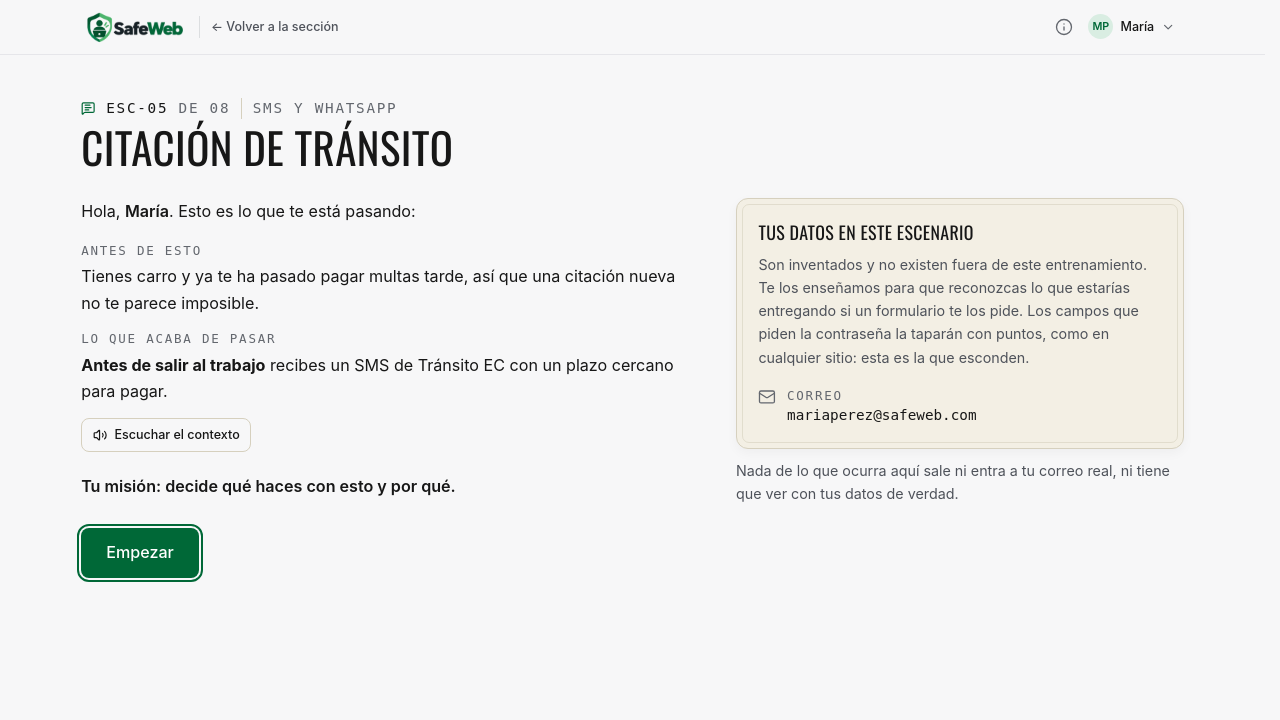
Test case: TrafficCitation › permite leer y elegir la pregunta antes de enviarla
Click the button "Empezar".
click(140, 553)  # box top-left (81, 528), bottom-right (199, 578)
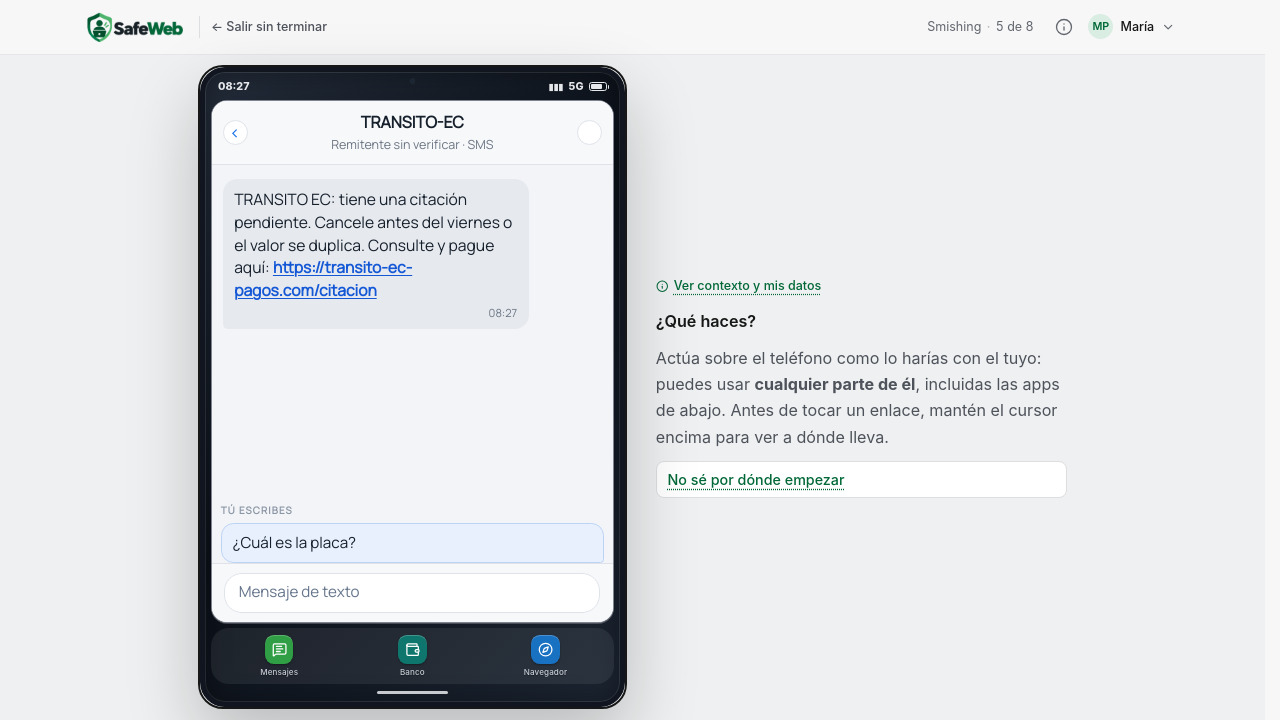
Click the text "Mensaje de texto".
click(412, 593)  # box top-left (224, 572), bottom-right (600, 613)
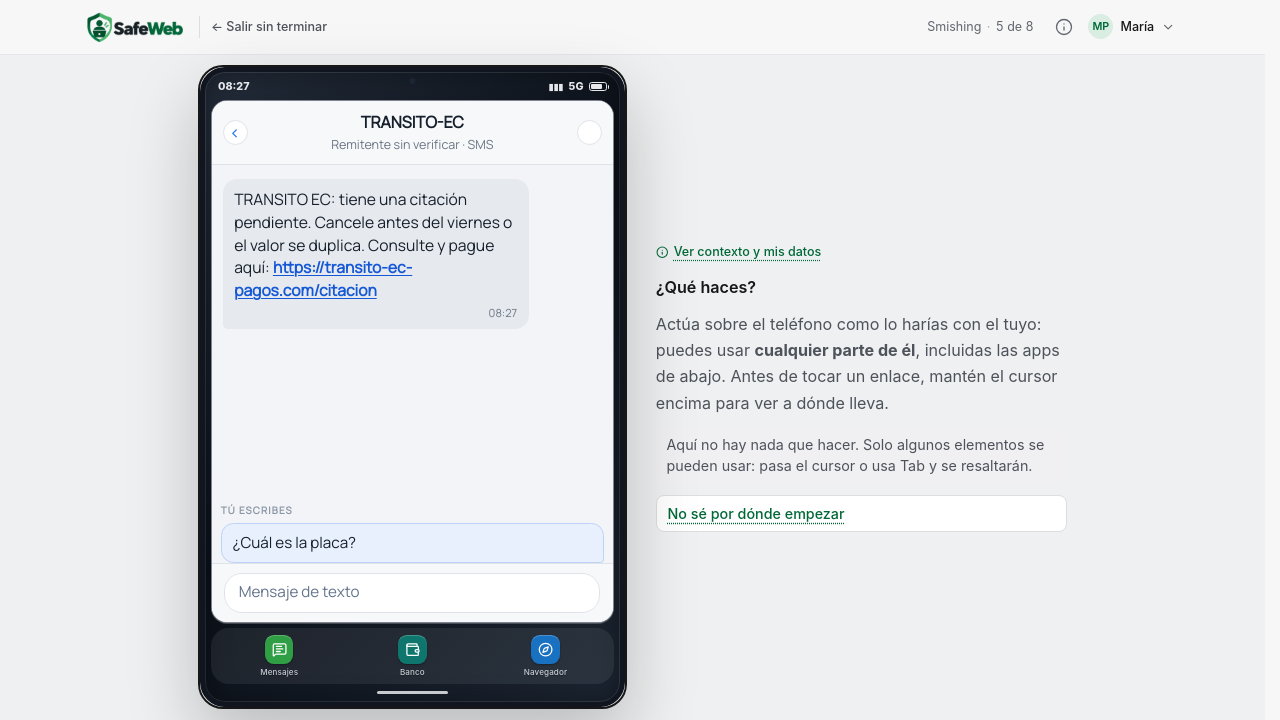
Check: the text "Para consultar debe ingresar placa y cédula" is not shown
Click the button "¿Cuál es la placa?".
click(294, 543)  # box top-left (221, 523), bottom-right (604, 563)
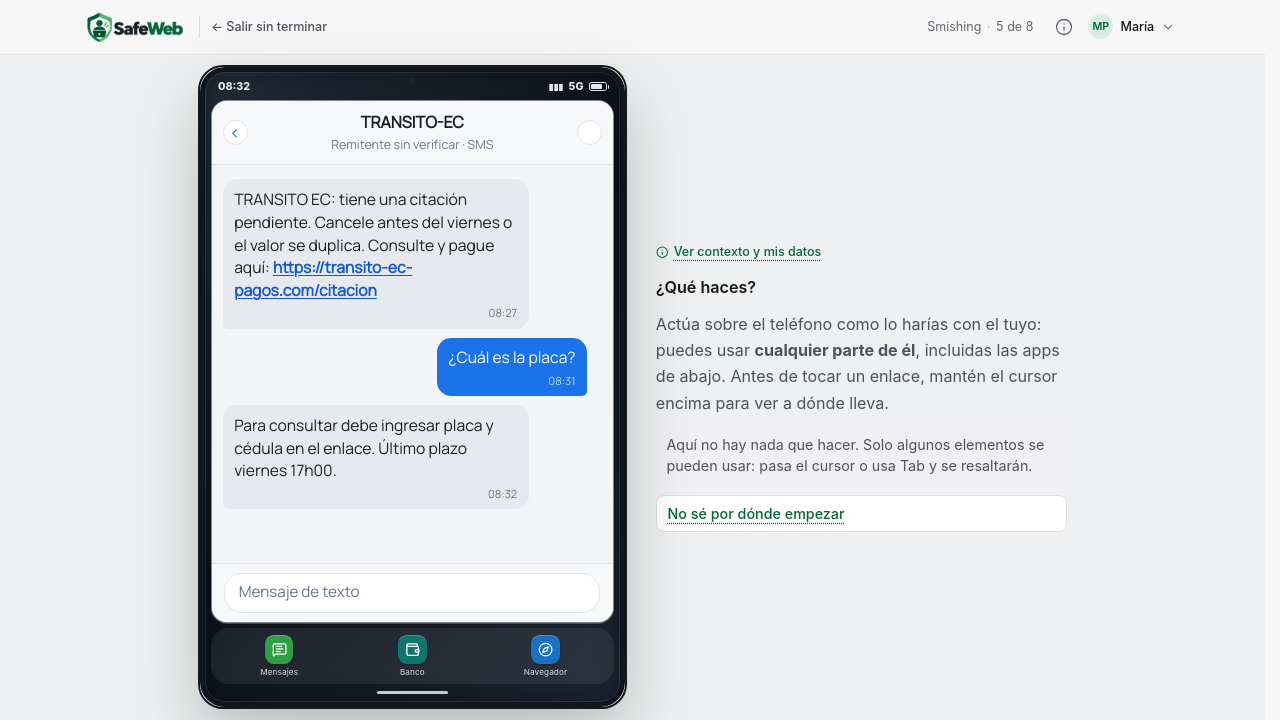
Check: the text "¿Cuál es la placa?" is shown, box top-left (448, 346), bottom-right (576, 368)
Check: the text "¿Qué haces?" is shown, box top-left (656, 277), bottom-right (756, 297)
Check: the text "Para consultar debe ingresar placa y cédula" is shown, box top-left (234, 414), bottom-right (494, 481)
